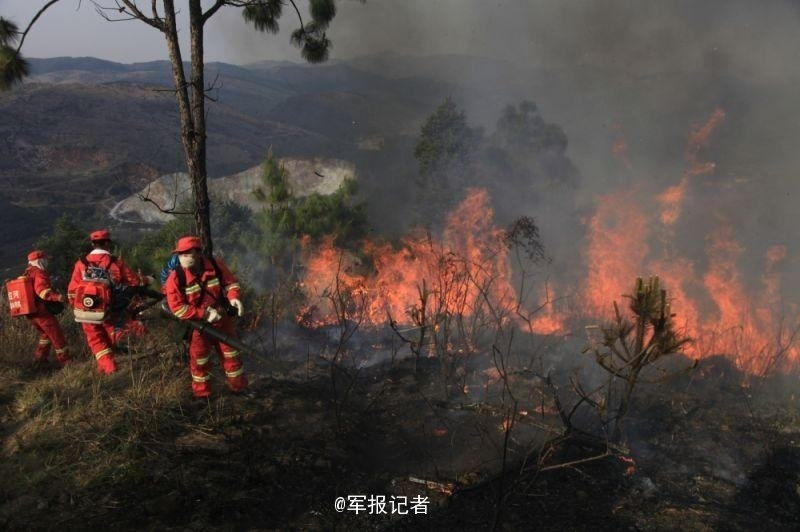fire: (573, 109, 800, 383), (290, 187, 558, 327)
